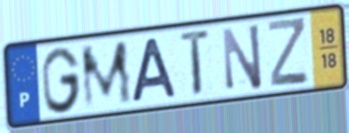A: (128, 36, 180, 105)
G: (40, 44, 83, 116)
M: (78, 37, 135, 113)
N: (220, 20, 265, 92)
T: (179, 26, 214, 100)
Z: (266, 14, 310, 88)
